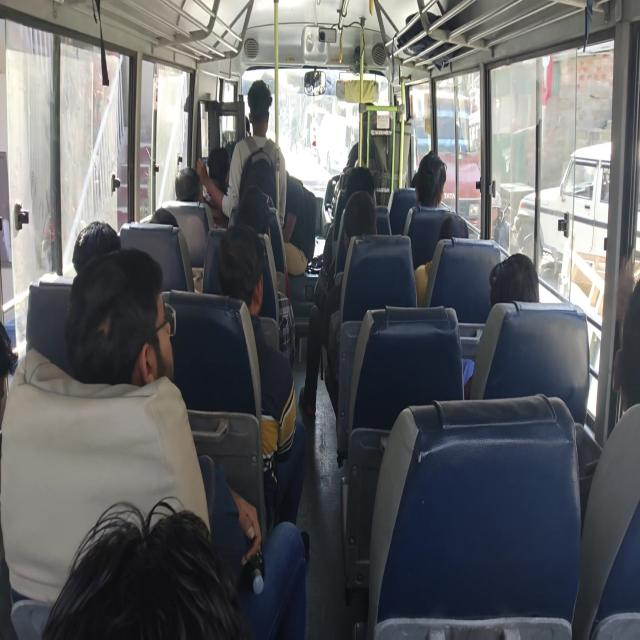person: (46, 531, 250, 640), (85, 275, 154, 369), (612, 252, 640, 466), (216, 226, 270, 322), (230, 79, 282, 154), (0, 288, 20, 475), (70, 209, 130, 270), (271, 180, 308, 272), (348, 181, 385, 256), (492, 255, 544, 295), (422, 150, 449, 212), (146, 202, 184, 232), (339, 168, 379, 196), (174, 164, 204, 197), (408, 158, 428, 179)
